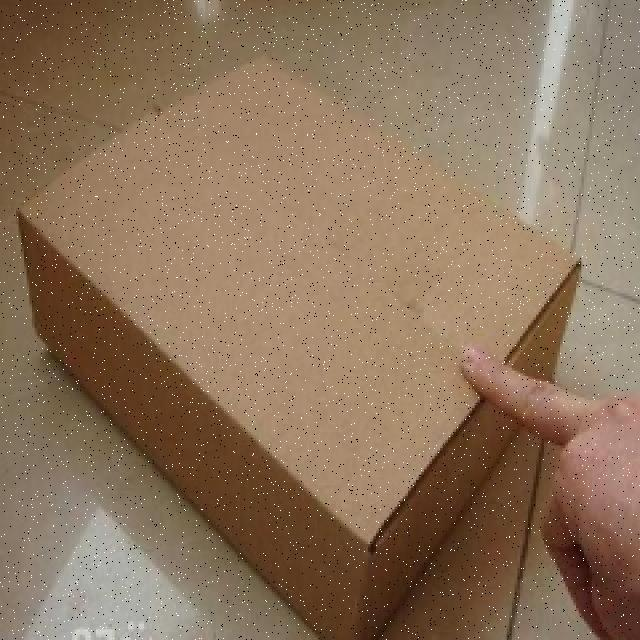box: (2, 29, 608, 640)
